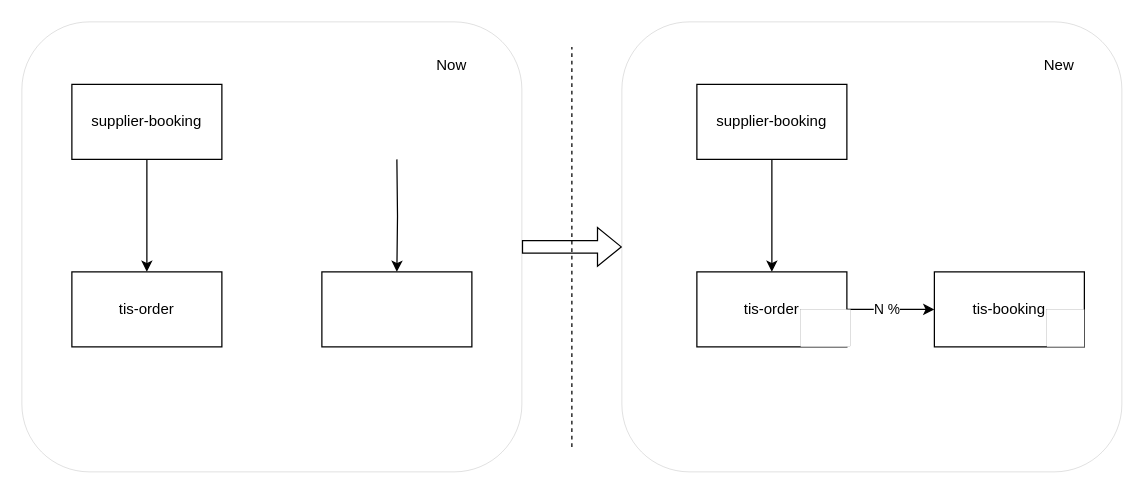
Some shapes in this 1143 by 493 pixel diagram are drawn without their labels. The shapes that lost their labels are listed below. From the top down, each one's centre as x and y in pixels, then its label:
At pixel 396 309: "tis-order-job".
At pixel 825 327: "adapter".
At pixel 1065 327: "job".
